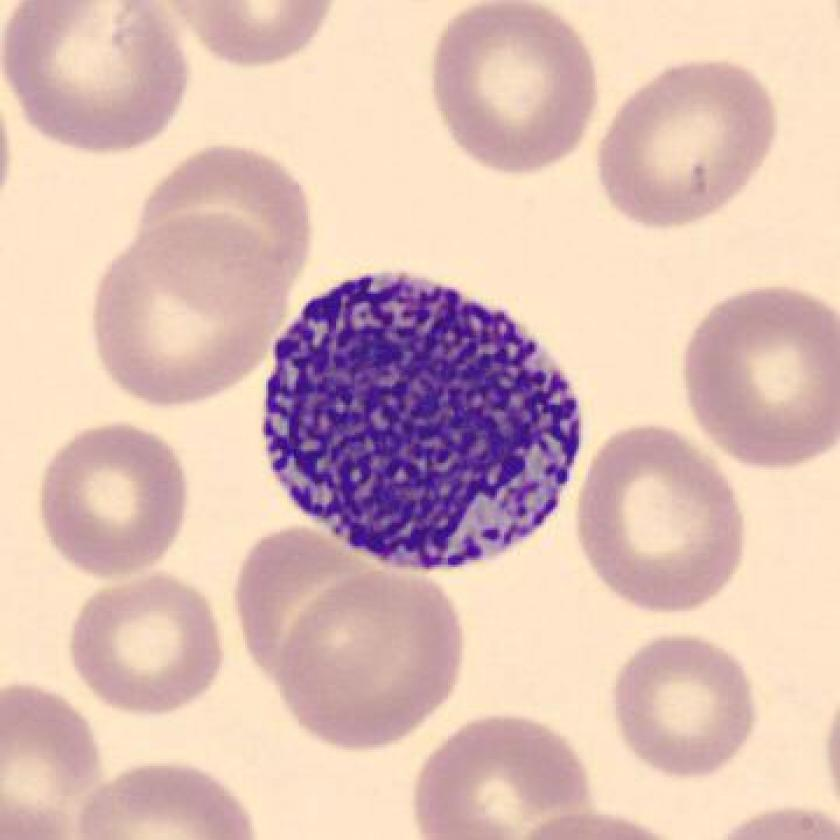basophil: (249, 265, 606, 579)
